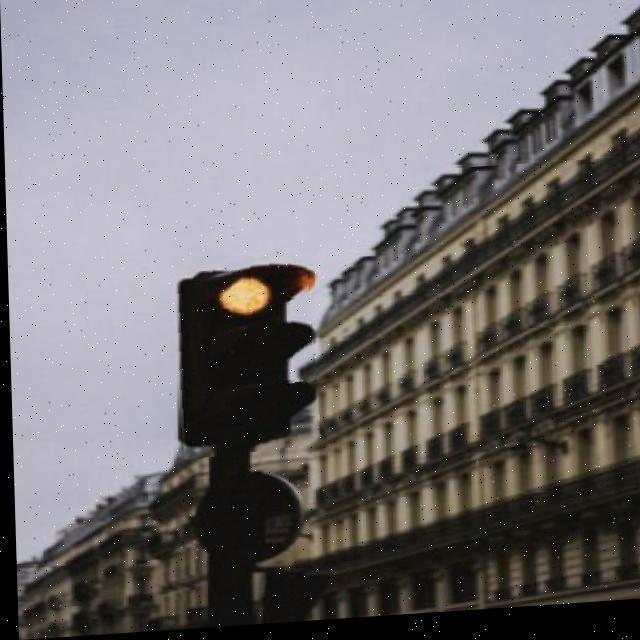Lampu Merah: (168, 254, 316, 461)
